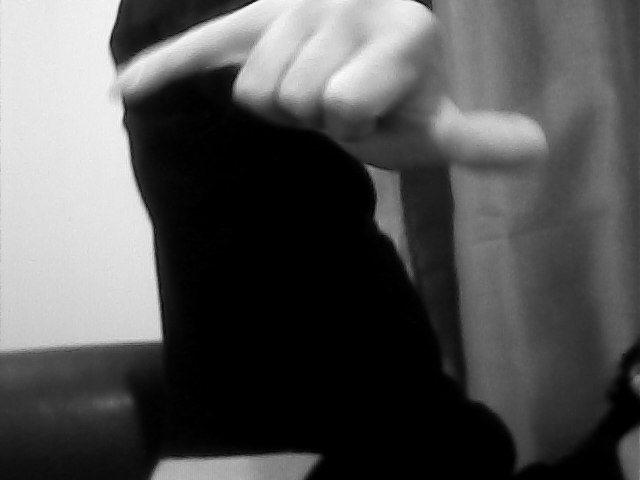aloha: (100, 1, 557, 179)
